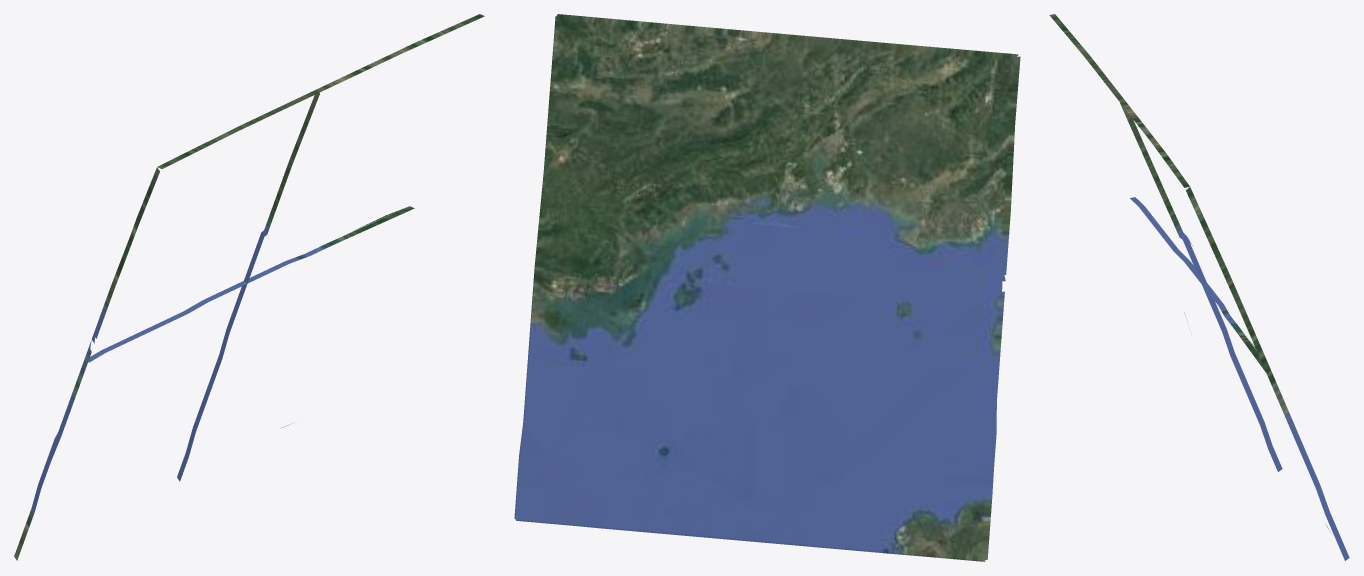
3 views of the same model, side by side, from view 1: azimuth 30°, elevation 25°; view 2: azimuth 150°, elevation 25°; view 3: azimuth 270°, elevation 25° (orthographic). The views are drawn at different scales.
Size of the model in its own units: 316467 by 294774 by 202816.
Materials: 1 (1 with a texture image).
